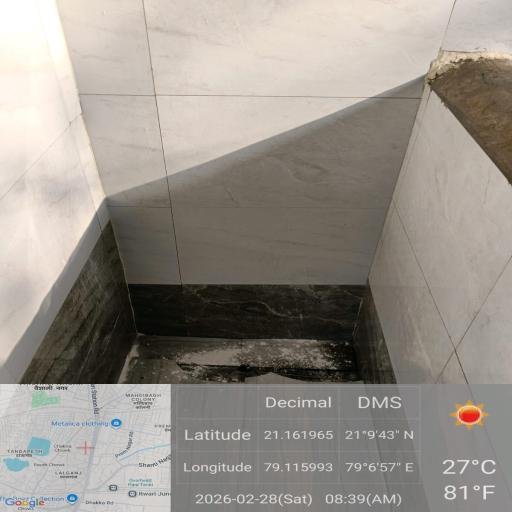dirty_floor: (48, 288, 512, 503)
